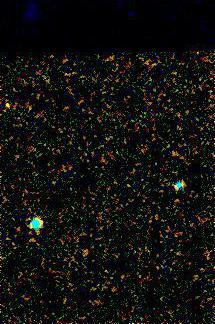star: (0, 91, 25, 121)
